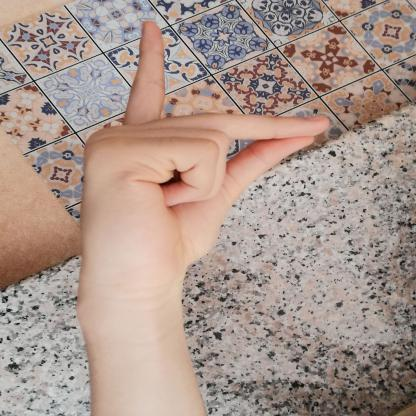TAA: (65, 13, 343, 302)
